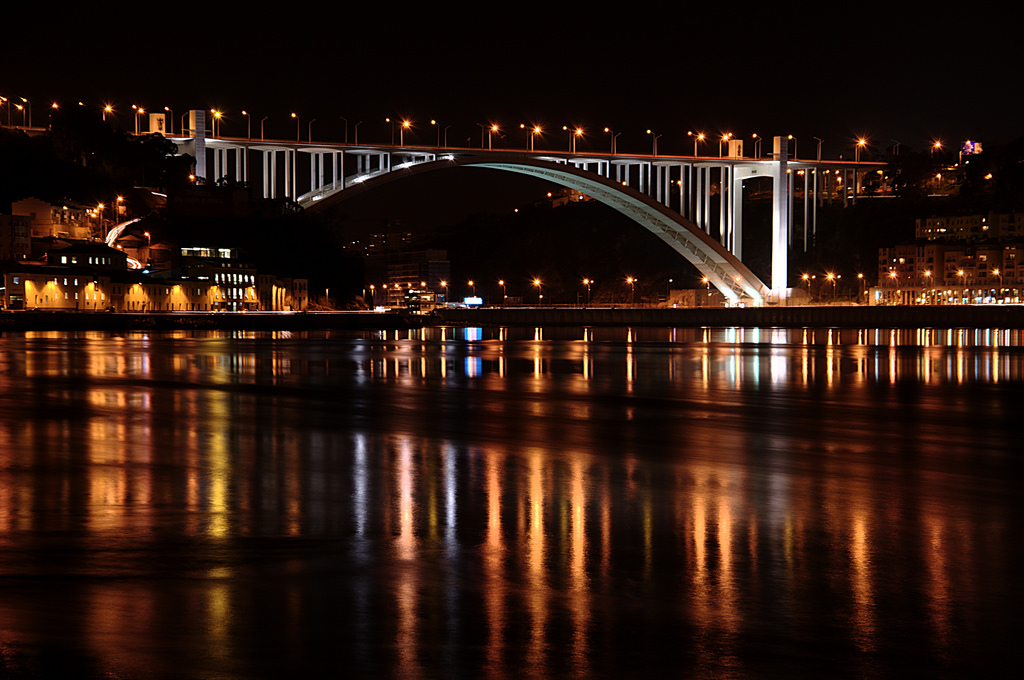arrabida: (139, 107, 893, 309)
